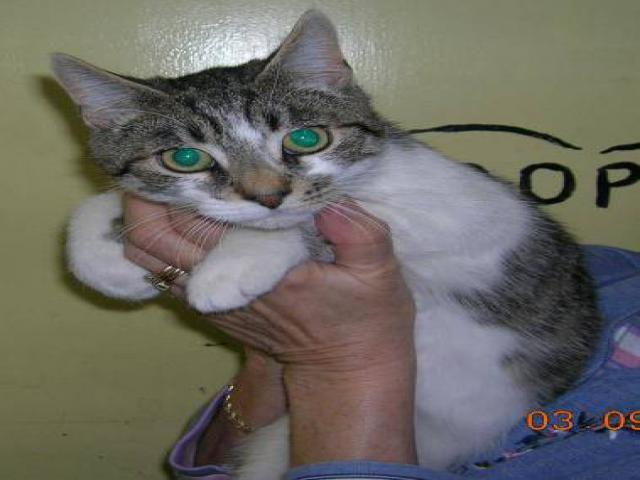cat: (63, 3, 601, 472)
